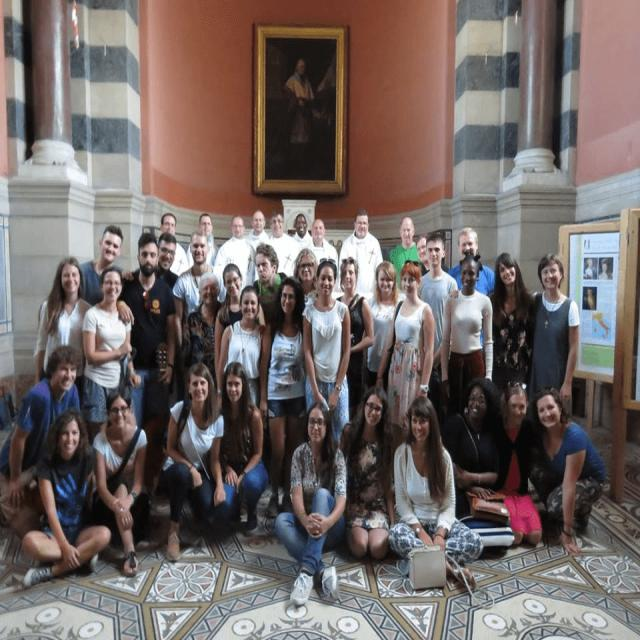body: (385, 392, 485, 593), (17, 407, 113, 592), (272, 397, 350, 608), (0, 344, 82, 542), (156, 358, 226, 564), (114, 232, 178, 457), (529, 381, 609, 559), (115, 230, 177, 430), (90, 382, 150, 580), (333, 381, 398, 563), (257, 276, 305, 520), (449, 252, 536, 386), (374, 260, 436, 448), (80, 265, 142, 444), (300, 256, 353, 452), (32, 255, 94, 413), (522, 252, 581, 418), (214, 361, 268, 531), (416, 232, 460, 437), (438, 250, 494, 408), (492, 379, 544, 546), (272, 49, 336, 171), (212, 262, 270, 391), (171, 228, 228, 350), (451, 377, 507, 501), (334, 254, 375, 419), (216, 286, 267, 412), (446, 226, 495, 351), (183, 269, 225, 391), (365, 260, 401, 388), (76, 224, 129, 310), (336, 208, 384, 294), (212, 212, 257, 302), (250, 241, 288, 326), (578, 244, 618, 322), (301, 217, 339, 298), (387, 215, 422, 292), (265, 209, 302, 276), (157, 212, 191, 276), (184, 210, 220, 268), (415, 233, 450, 277), (292, 247, 319, 301), (247, 209, 270, 252), (292, 212, 314, 245)
